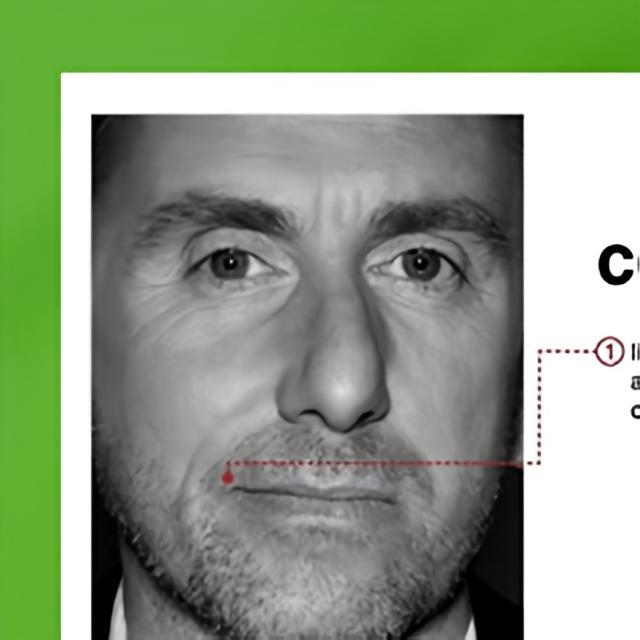content: (94, 117, 524, 640)
